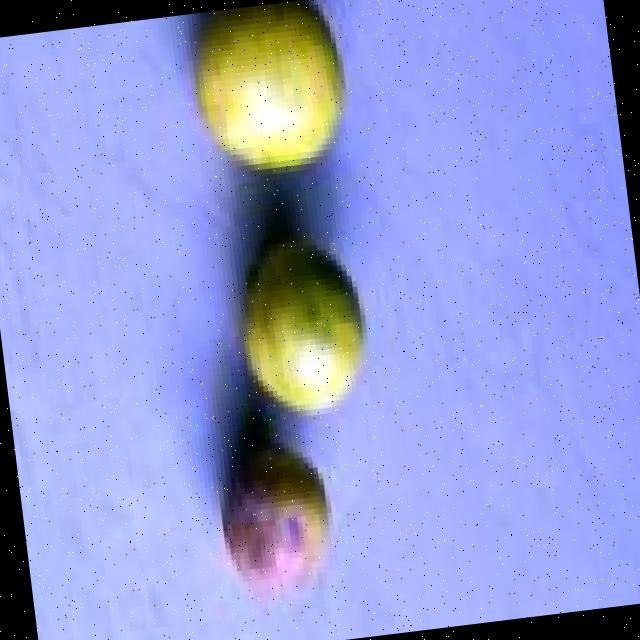Bad_Lime-0-1-day: (218, 433, 322, 593)
Good_Lime-10-21-days: (192, 0, 341, 176), (237, 239, 364, 413)
